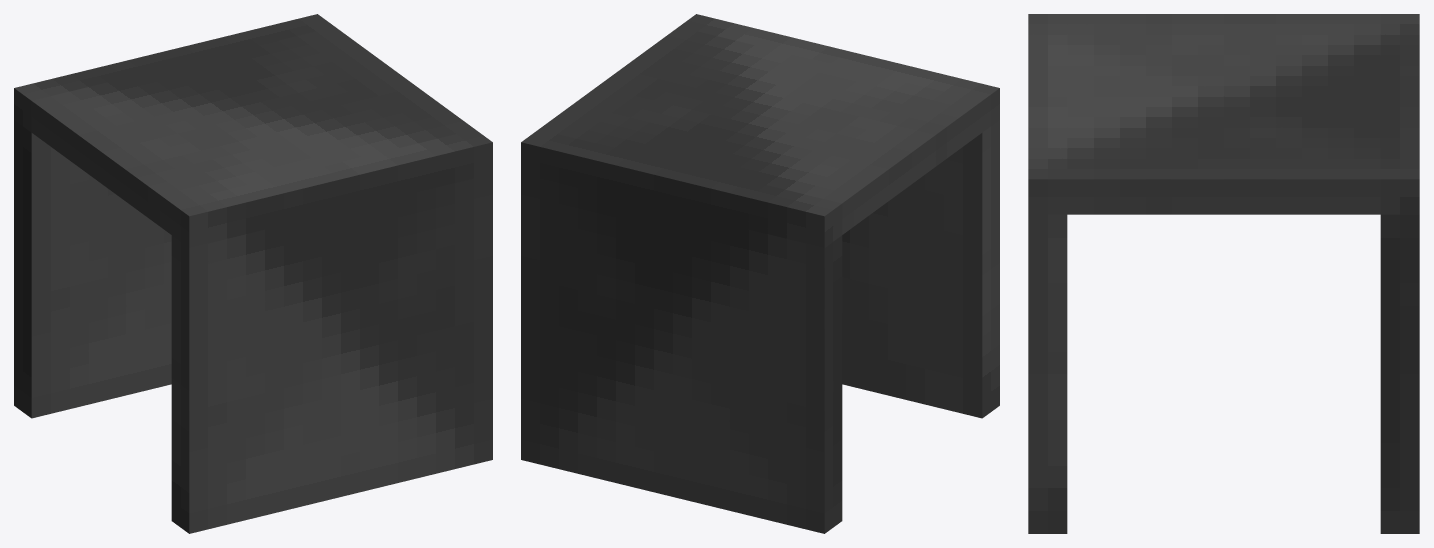
File: vent-horizontal.glb
The picture shows the model from 3 angles, left to right: view 1: azimuth 30°, elevation 25°; view 2: azimuth 150°, elevation 25°; view 3: azimuth 270°, elevation 25°; orthographic projection. The views are drawn at different scales.
Parts seen in each view (by area): view 1: vent-horizontal; view 2: vent-horizontal; view 3: vent-horizontal.
Part boxes in pixels (bbox=[...]): vent-horizontal: bbox=[14, 14, 492, 533]; vent-horizontal: bbox=[521, 14, 999, 533]; vent-horizontal: bbox=[1028, 14, 1419, 533].
Size of the model in its own units: 1 by 1 by 1.
Materials: 1 (1 with a texture image).
